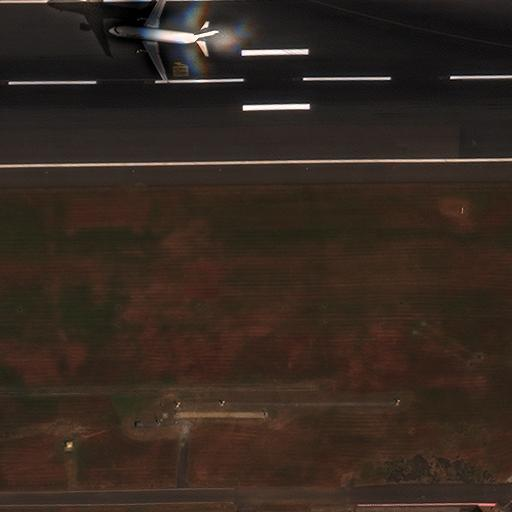Medium Civil Transport: (109, 0, 219, 83)
